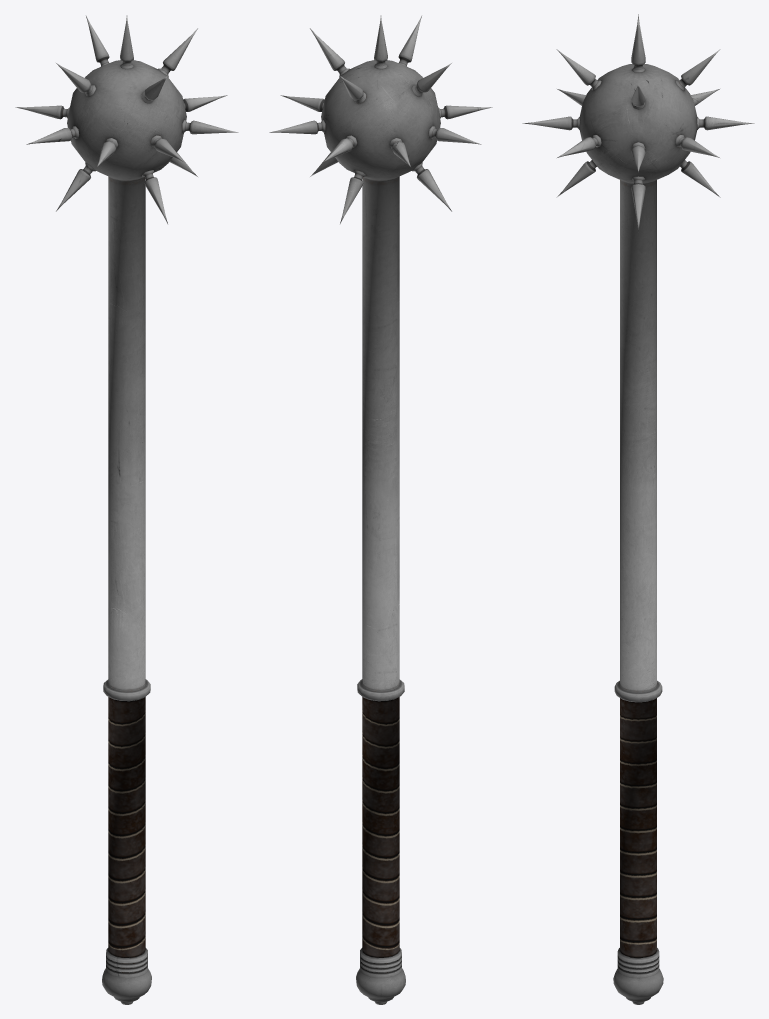
The model's file is SM_Mace_07.fbx.
The picture shows the model from 3 angles, left to right: view 1: azimuth 30°, elevation 25°; view 2: azimuth 150°, elevation 25°; view 3: azimuth 270°, elevation 25°; orthographic projection.
Visible parts, largest first — view 1: SM_Mace_07_LOD0; view 2: SM_Mace_07_LOD0; view 3: SM_Mace_07_LOD0.
Boxes of the visible parts, box(x1,y1,x2,y2) form: SM_Mace_07_LOD0: box(15, 15, 238, 1004); SM_Mace_07_LOD0: box(269, 15, 492, 1004); SM_Mace_07_LOD0: box(522, 14, 754, 1004).
Bounding box in the file's own units: 18.45 × 18.45 × 86.19.
1 material, 1 textured.
